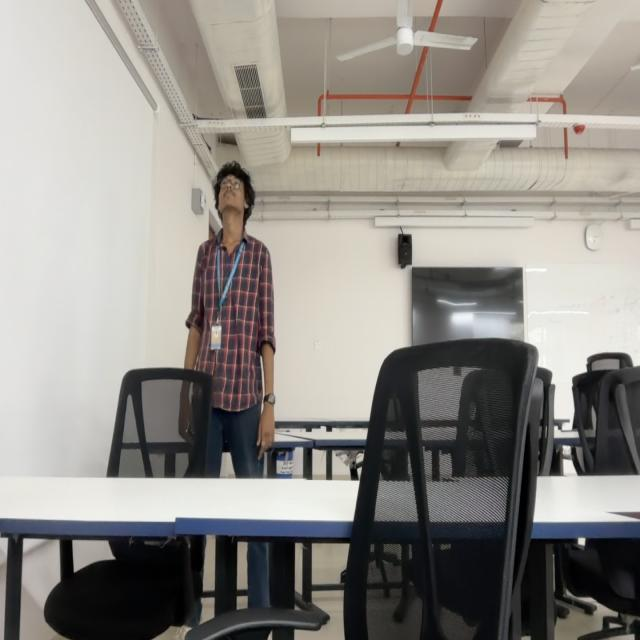darshan: (213, 156, 252, 218)
